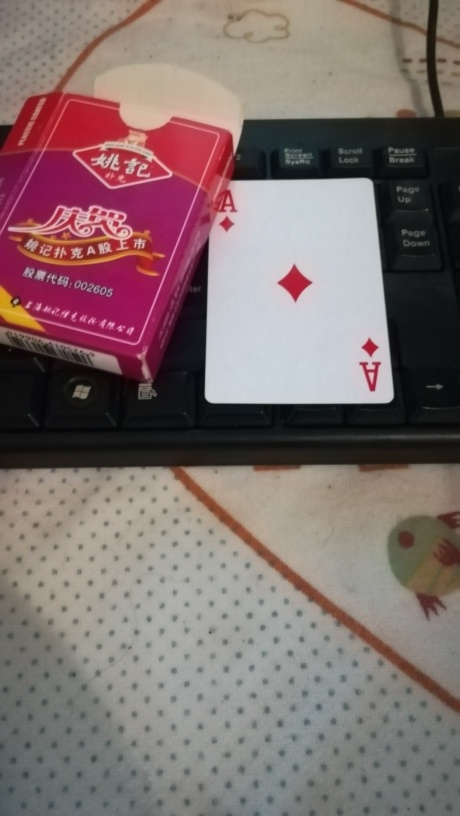fk a: (201, 174, 397, 407)
